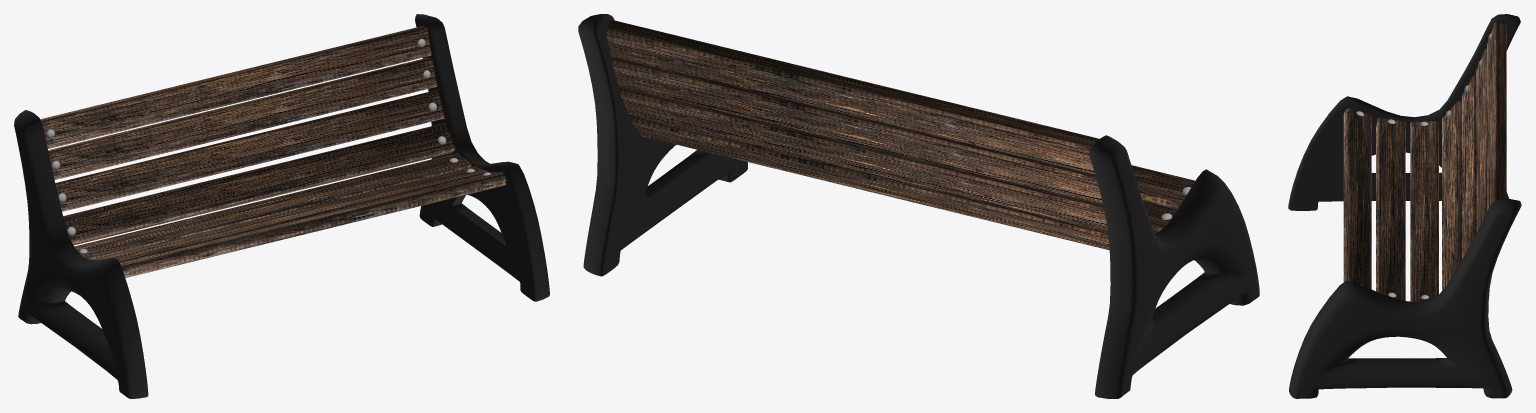
File: benchv2.fbx
3 renders of one model, left to right at view 1: azimuth 30°, elevation 25°; view 2: azimuth 150°, elevation 25°; view 3: azimuth 270°, elevation 25°, orthographic. The views are drawn at different scales.
Visible parts, largest first — view 1: support, plank7, plank4, plank6, plank5, support2, plank3, plank, plank2; view 2: support, plank7, support2, plank6, plank5, plank4, plank; view 3: support2, support, plank2, plank3, plank, plank7, plank4, plank5, plank6.
Boxes of the visible parts, x1,y1,x2,y2 form: support: (14, 110, 148, 398); plank7: (40, 26, 431, 148); plank4: (63, 123, 455, 245); plank6: (48, 58, 437, 179); plank5: (55, 90, 444, 211); support2: (415, 14, 549, 301); plank3: (74, 153, 471, 259); plank: (120, 172, 506, 277); plank2: (91, 166, 488, 263); support: (1089, 135, 1259, 398); plank7: (605, 20, 1099, 174); support2: (578, 14, 747, 276); plank6: (611, 57, 1102, 204); plank5: (619, 87, 1107, 230); plank4: (630, 115, 1109, 250); plank: (1131, 165, 1194, 208); support2: (1289, 199, 1521, 398); support: (1288, 14, 1520, 210); plank2: (1376, 117, 1405, 300); plank3: (1410, 121, 1438, 301); plank: (1343, 108, 1371, 289); plank7: (1487, 22, 1506, 211); plank4: (1442, 100, 1461, 290); plank5: (1462, 75, 1476, 259); plank6: (1476, 48, 1486, 232).
Bounding box in the file's own units: 1.84 × 0.8408 × 0.9179.
3 materials, 1 textured.
